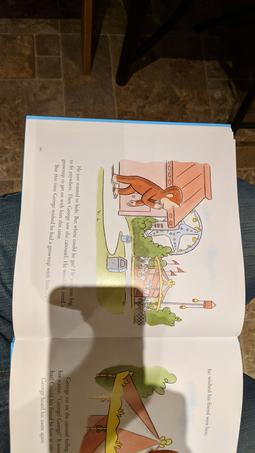text block: (40, 153, 85, 312), (33, 362, 82, 453)
